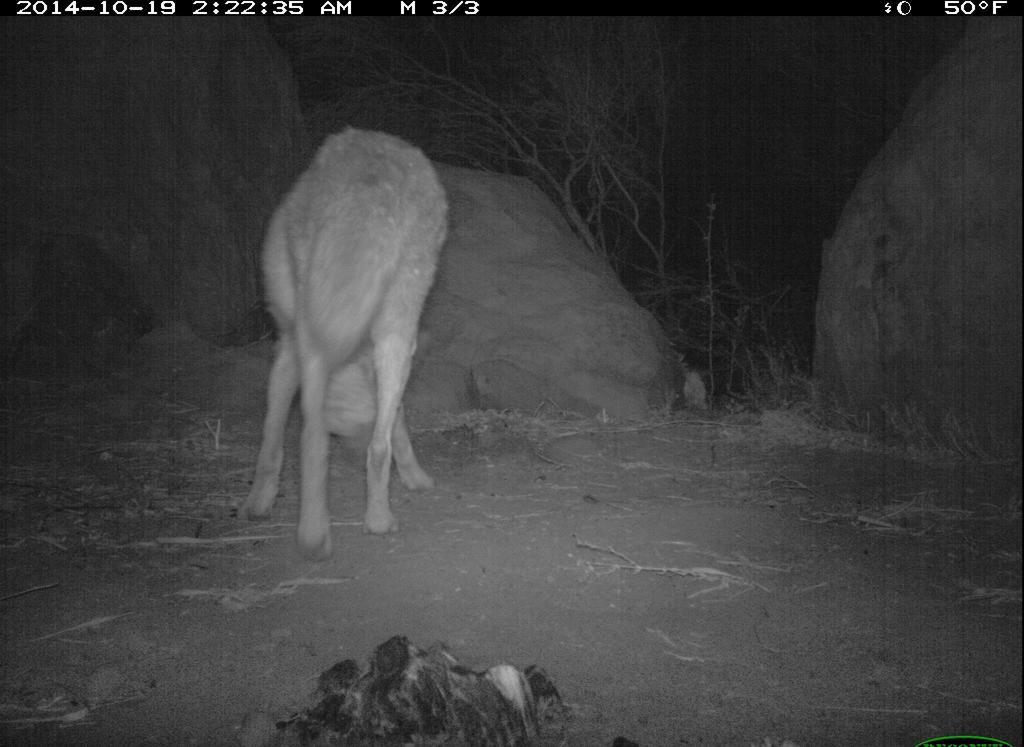coyote: (231, 121, 459, 566)
